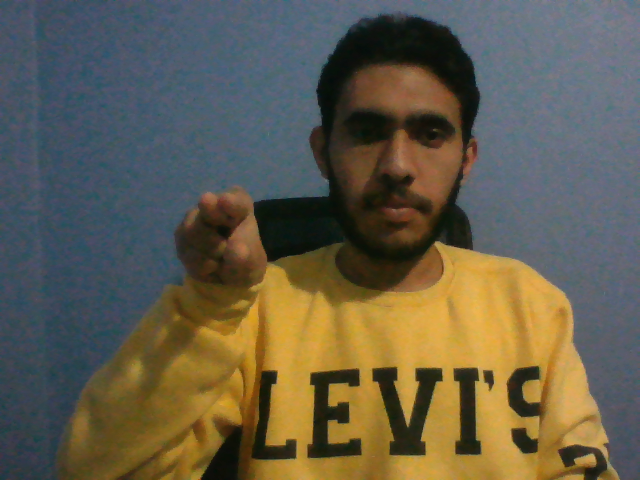no: (166, 182, 281, 305)
